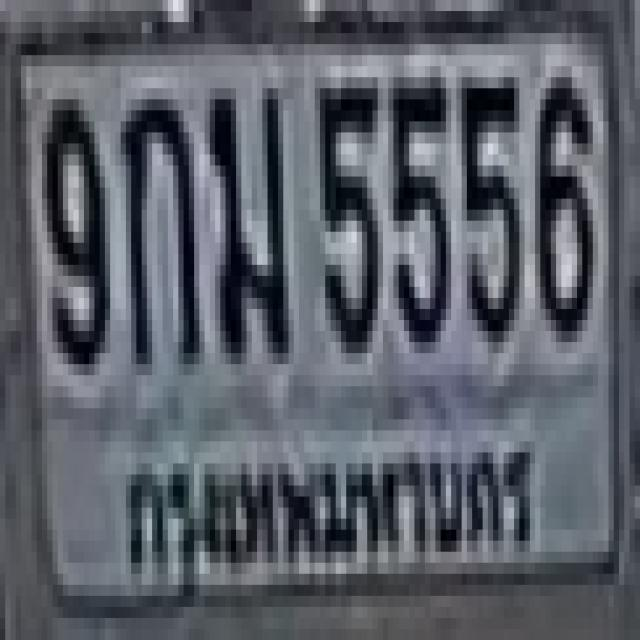5: (388, 66, 446, 342), (459, 66, 517, 331), (315, 77, 372, 342)
6: (535, 66, 588, 331)
9: (42, 88, 105, 364)
A01: (116, 88, 194, 364)
A33: (205, 77, 283, 353)
BKK: (108, 420, 547, 580)
